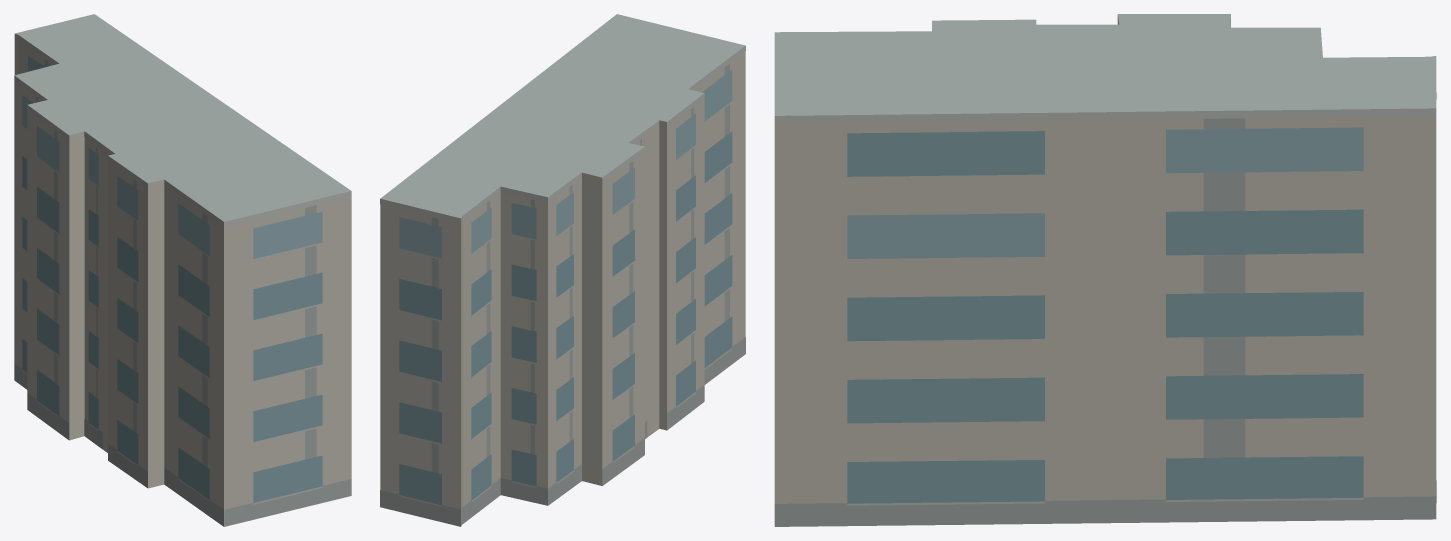
The model's file is survey-upis-32577010.glb.
3 renders of one model, left to right at view 1: azimuth 30°, elevation 25°; view 2: azimuth 150°, elevation 25°; view 3: azimuth 270°, elevation 25°, orthographic. The views are drawn at different scales.
Visible parts, largest first — view 1: survey-upis-32577010.tmp; view 2: survey-upis-32577010.tmp; view 3: survey-upis-32577010.tmp.
Part boxes in pixels (left/top/right/bottom): survey-upis-32577010.tmp: left=14, top=14, right=351, bottom=526; survey-upis-32577010.tmp: left=380, top=14, right=745, bottom=526; survey-upis-32577010.tmp: left=774, top=14, right=1436, bottom=526.
Size of the model in its own units: 6.98 by 13.1 by 19.14.
